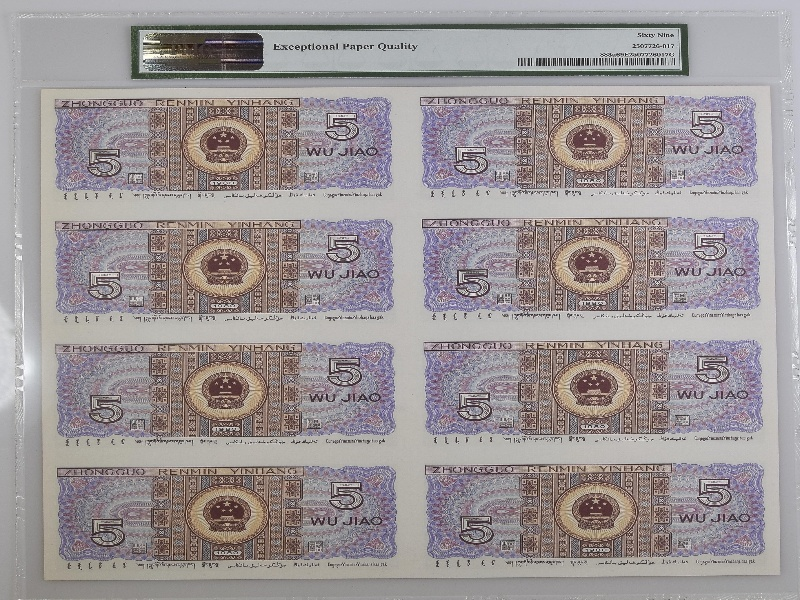papernote: (38, 87, 783, 578)
